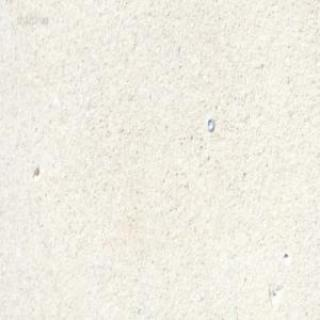Washertrack_idkeyframe: (205, 115, 213, 131)
